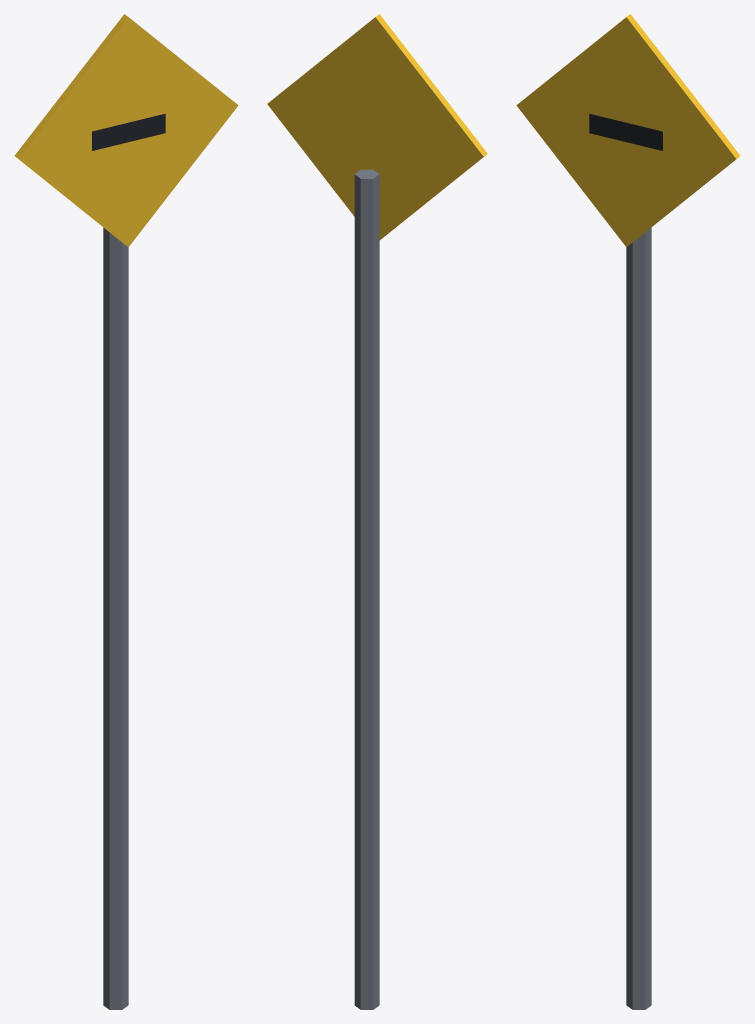
File: warning_sign.glb
3 renders of one model, left to right at view 1: azimuth 30°, elevation 25°; view 2: azimuth 150°, elevation 25°; view 3: azimuth 330°, elevation 25°, orthographic.
Visible parts, largest first — view 1: warning_sign; view 2: warning_sign; view 3: warning_sign.
Boxes of the visible parts, <box> form: warning_sign: <box>14,14,238,1009</box>; warning_sign: <box>267,14,487,1009</box>; warning_sign: <box>516,14,740,1009</box>.
Size of the model in its own units: 0.6 by 2.6 by 0.092.
